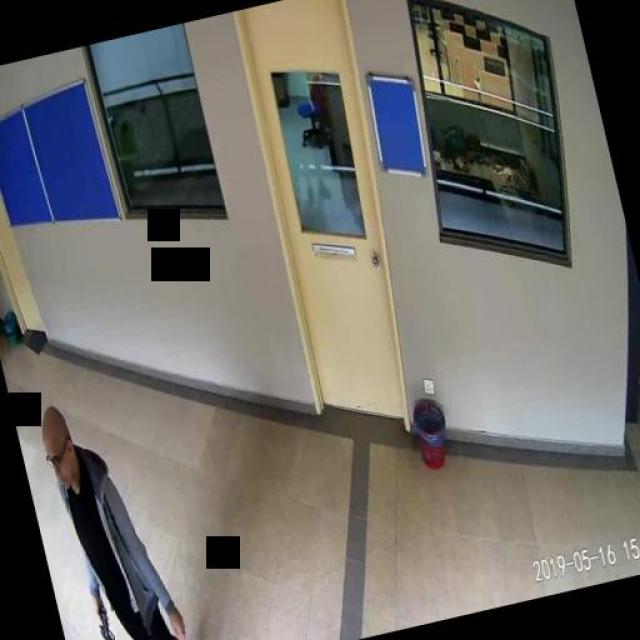gun: (94, 602, 125, 640)
